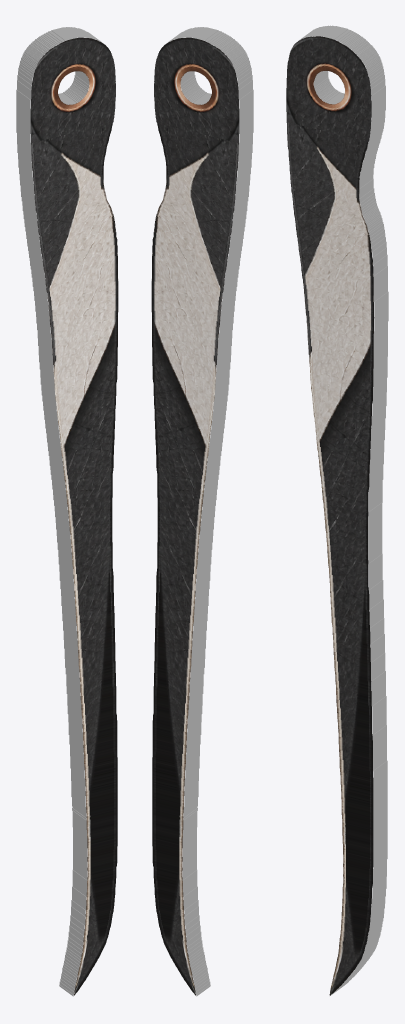
The model's file is LowerLeg.glb.
The picture shows the model from 3 angles, left to right: view 1: azimuth 30°, elevation 25°; view 2: azimuth 150°, elevation 25°; view 3: azimuth 330°, elevation 25°; orthographic projection.
Visible parts, largest first — view 1: PaperVolume; view 2: PaperVolume; view 3: PaperVolume.
Part boxes in pixels (left/top/right/bottom): PaperVolume: left=16, top=27, right=118, bottom=996; PaperVolume: left=151, top=27, right=253, bottom=996; PaperVolume: left=286, top=25, right=388, bottom=995.
Size of the model in its own units: 0.2974 by 2.97 by 0.08.
3 materials, 2 textured.
